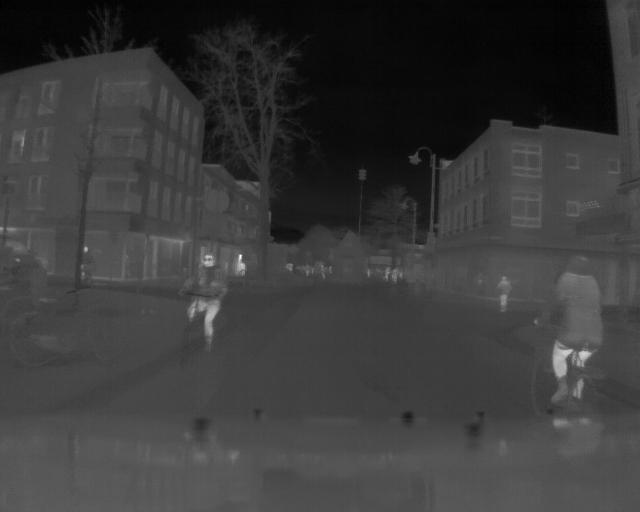person: (534, 252, 602, 403), (182, 251, 231, 356), (498, 274, 511, 315)
